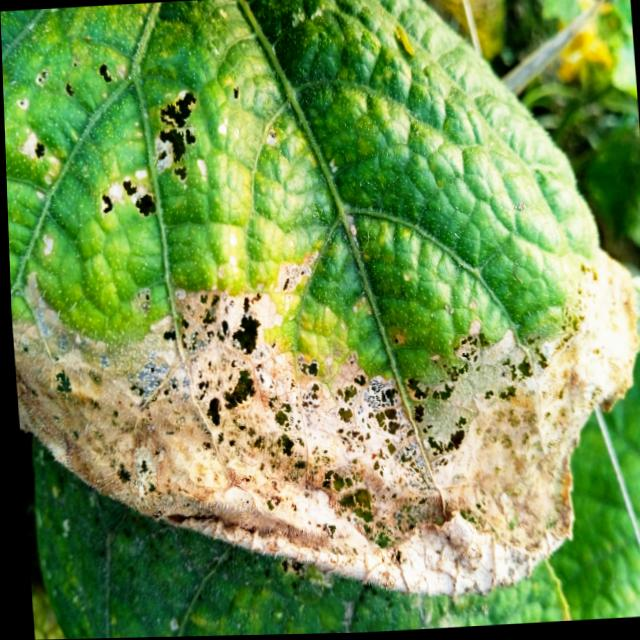Gummy-Stem-Blight: (12, 252, 640, 619)
